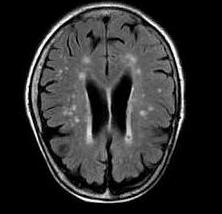Normal_Brain: (1, 1, 211, 214)
